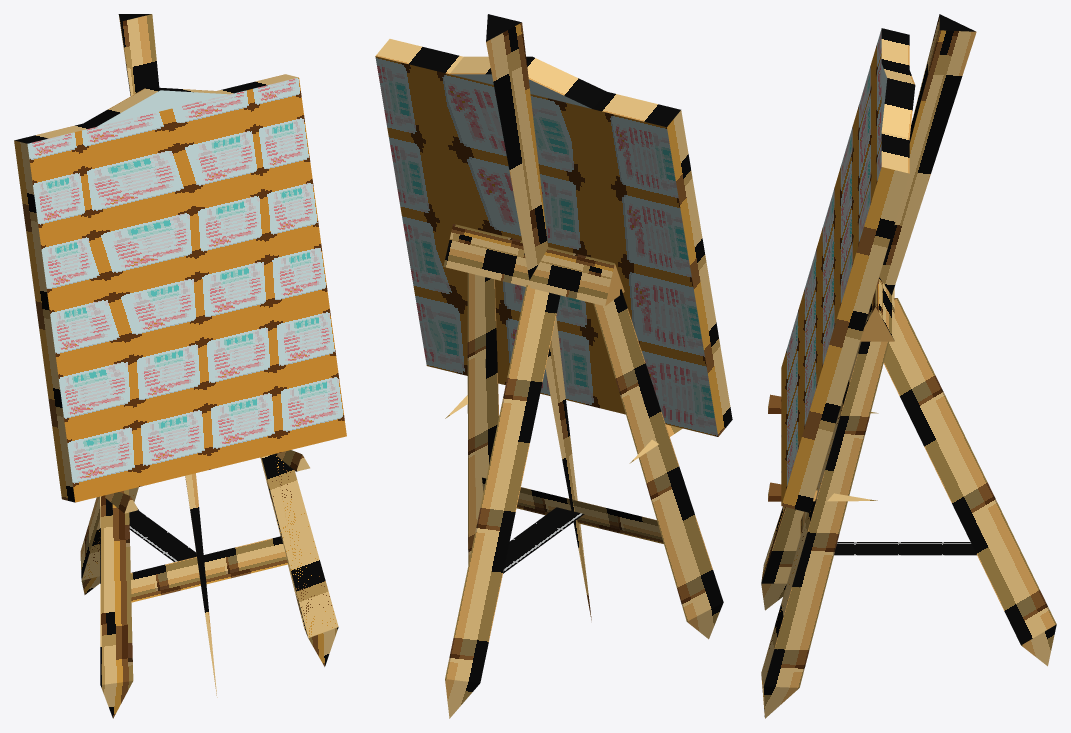
The picture shows the model from 3 angles, left to right: view 1: azimuth 30°, elevation 25°; view 2: azimuth 150°, elevation 25°; view 3: azimuth 270°, elevation 25°; orthographic projection. The views are drawn at different scales.
Parts seen in each view (by area): view 1: 3760kg_sh0_07; view 2: 3760kg_sh0_07; view 3: 3760kg_sh0_07.
Part boxes in pixels (x1,y1,x2,y2): 3760kg_sh0_07: (14, 14, 346, 718); 3760kg_sh0_07: (375, 14, 732, 718); 3760kg_sh0_07: (761, 14, 1056, 718).
Size of the model in its own units: 0.7524 by 1.65 by 0.6768.
Materials: 3 (3 with a texture image).
